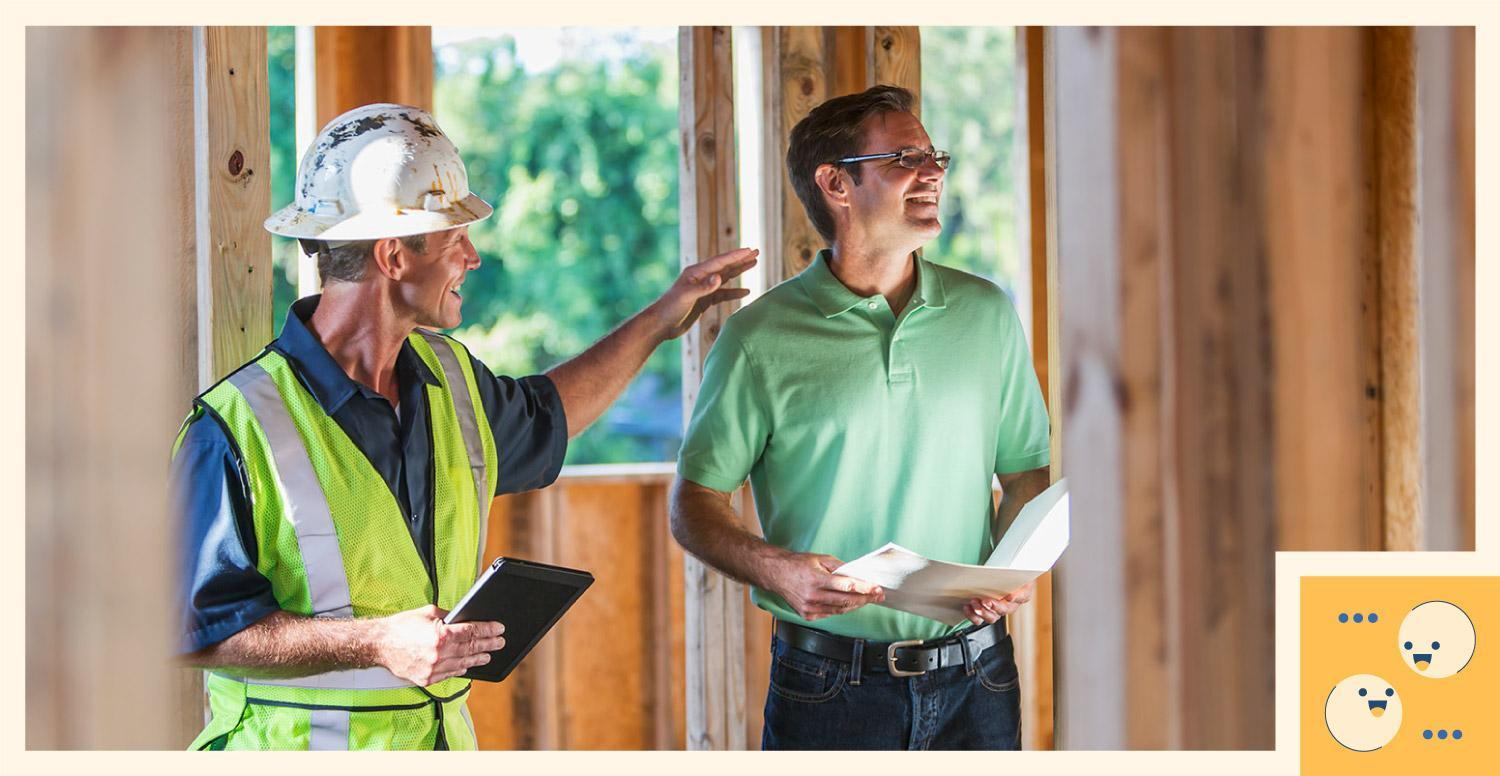helmet: (258, 96, 502, 257)
no-helmet: (760, 77, 950, 175)
no-vest: (713, 264, 1050, 665)
person: (180, 90, 567, 776), (701, 77, 1080, 747)
vest: (178, 338, 537, 750)
